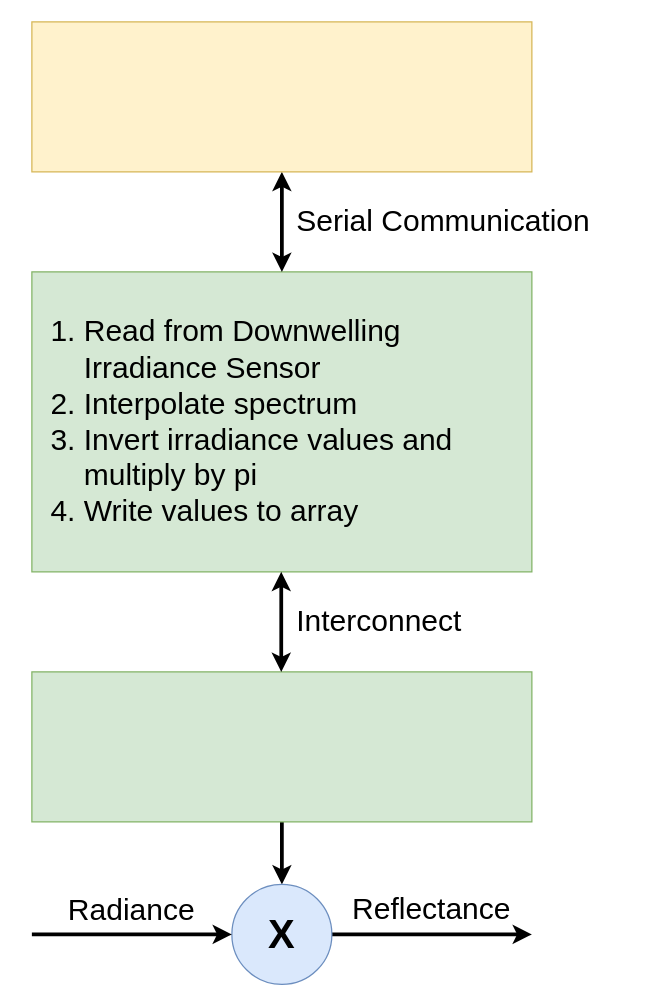
Image size: 654x1006. Some labels were removed from this diagram. Each missing label, with the box of its shape:
Downwelling Irradiance Sensor: (31, 21, 532, 172)
Hardware Registers: (31, 671, 532, 822)
